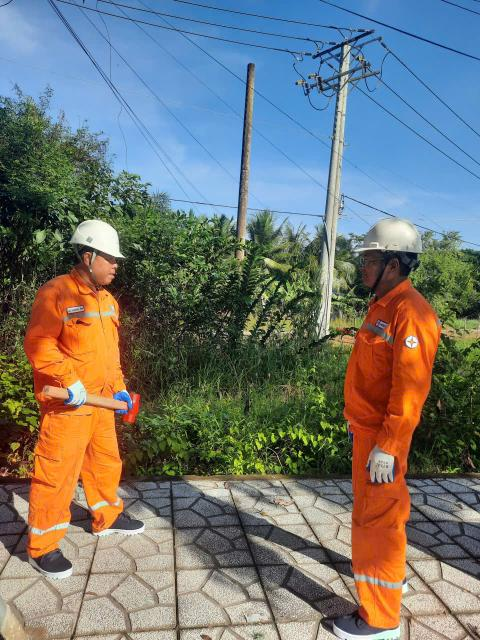gloves: (365, 444, 404, 490), (110, 387, 140, 421), (57, 378, 88, 410)
helmet: (342, 203, 432, 264), (66, 204, 128, 263)
shoes: (21, 538, 90, 588), (332, 603, 412, 640), (83, 507, 155, 546)
